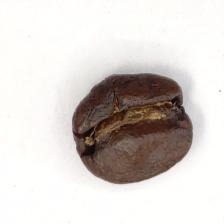NG: (82, 88, 190, 159)
